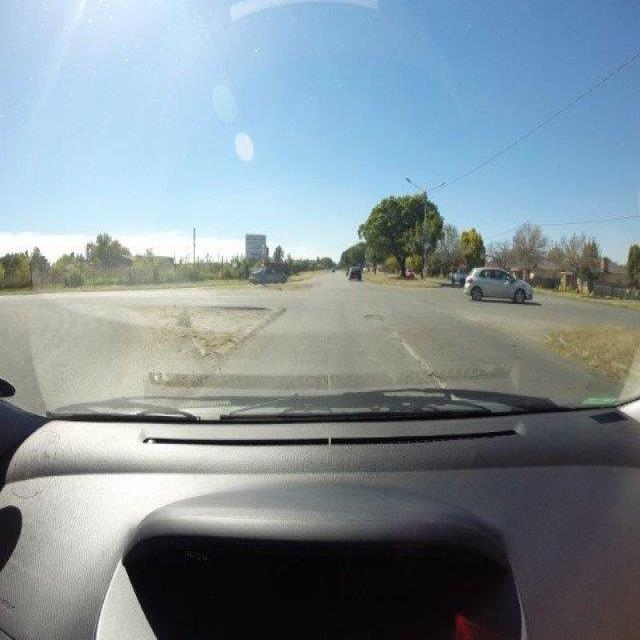lubang: (362, 308, 386, 323)
